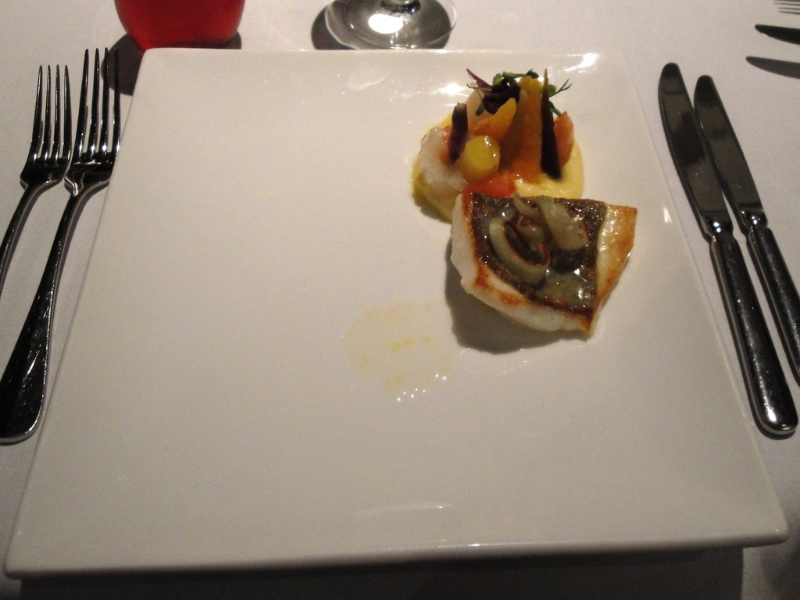knife: (650, 53, 800, 443)
